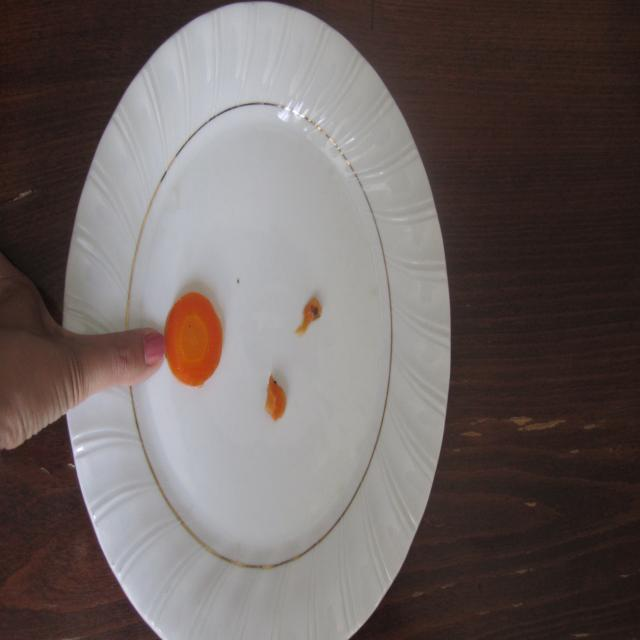Carrot: (161, 289, 229, 393)
Finger: (107, 321, 167, 398)
